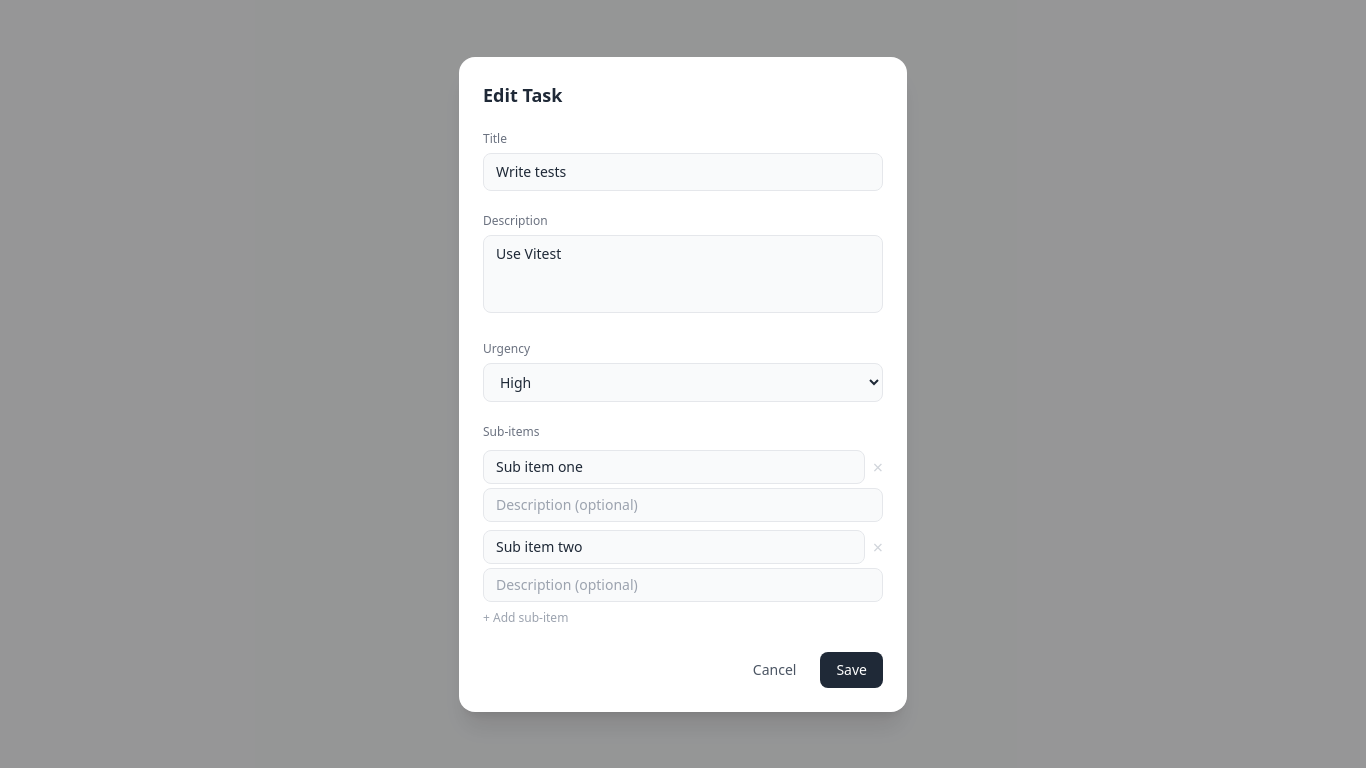
Test: TaskEditModal — children › adds a new child item row in the modal
The width and height of the screenshot is (1366, 768).
Step 1. Click the button with test id "modal-add-child" → (526, 618), box [483, 610, 568, 626]
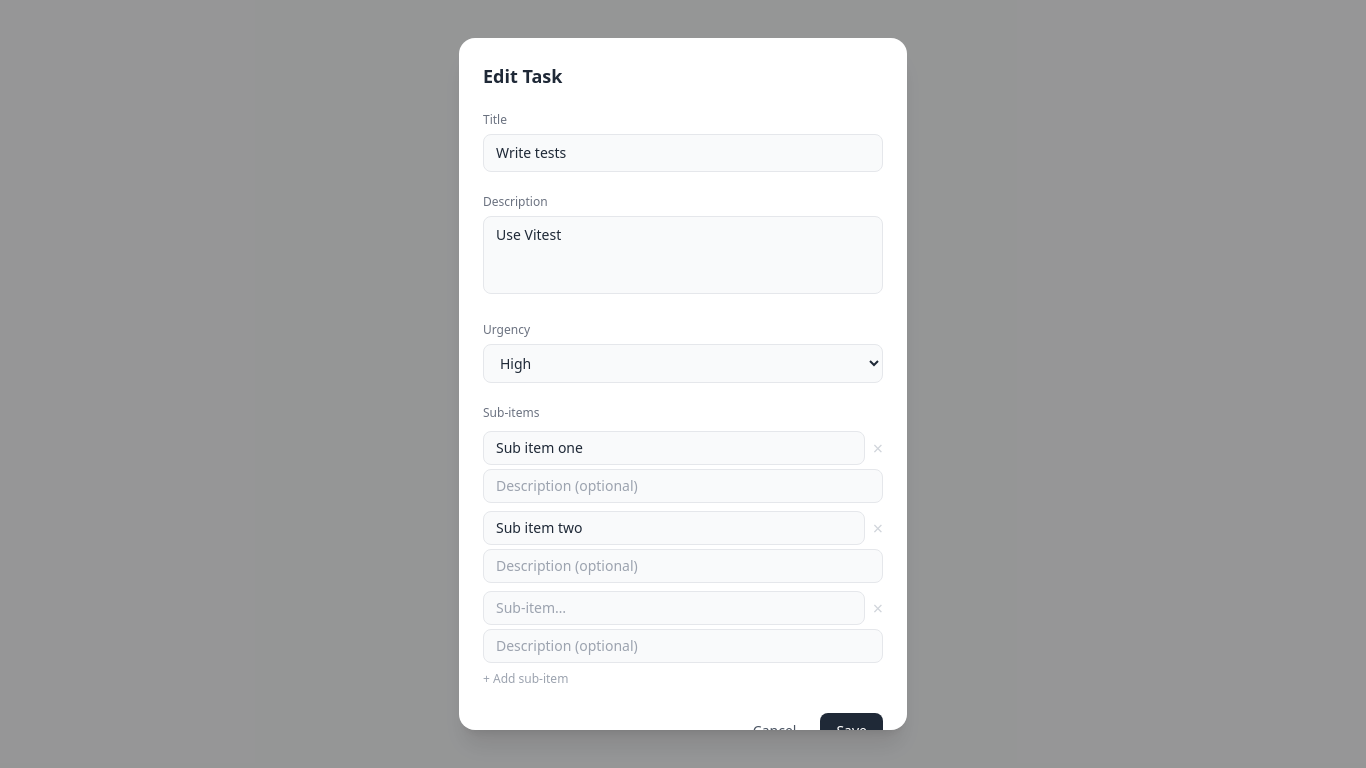
Expected: the field with test id "child-edit-input-new-0" is shown, [483, 591, 865, 625]
